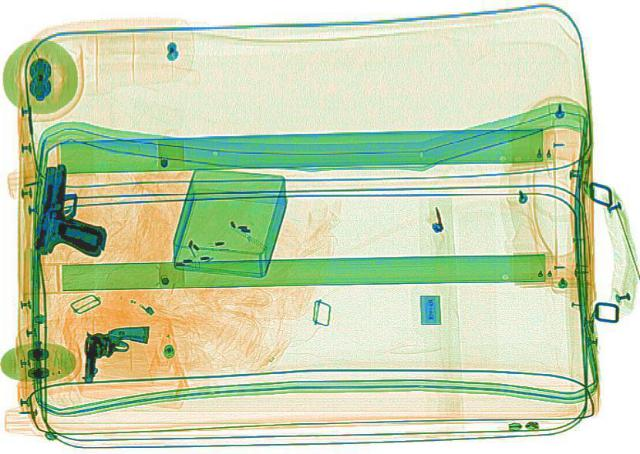Gun: (31, 160, 110, 256), (74, 318, 150, 387)
